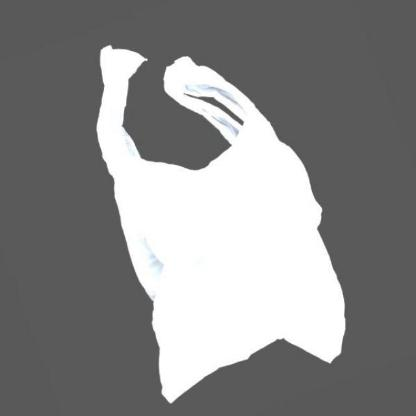Plastic Bag: (94, 46, 346, 408)
